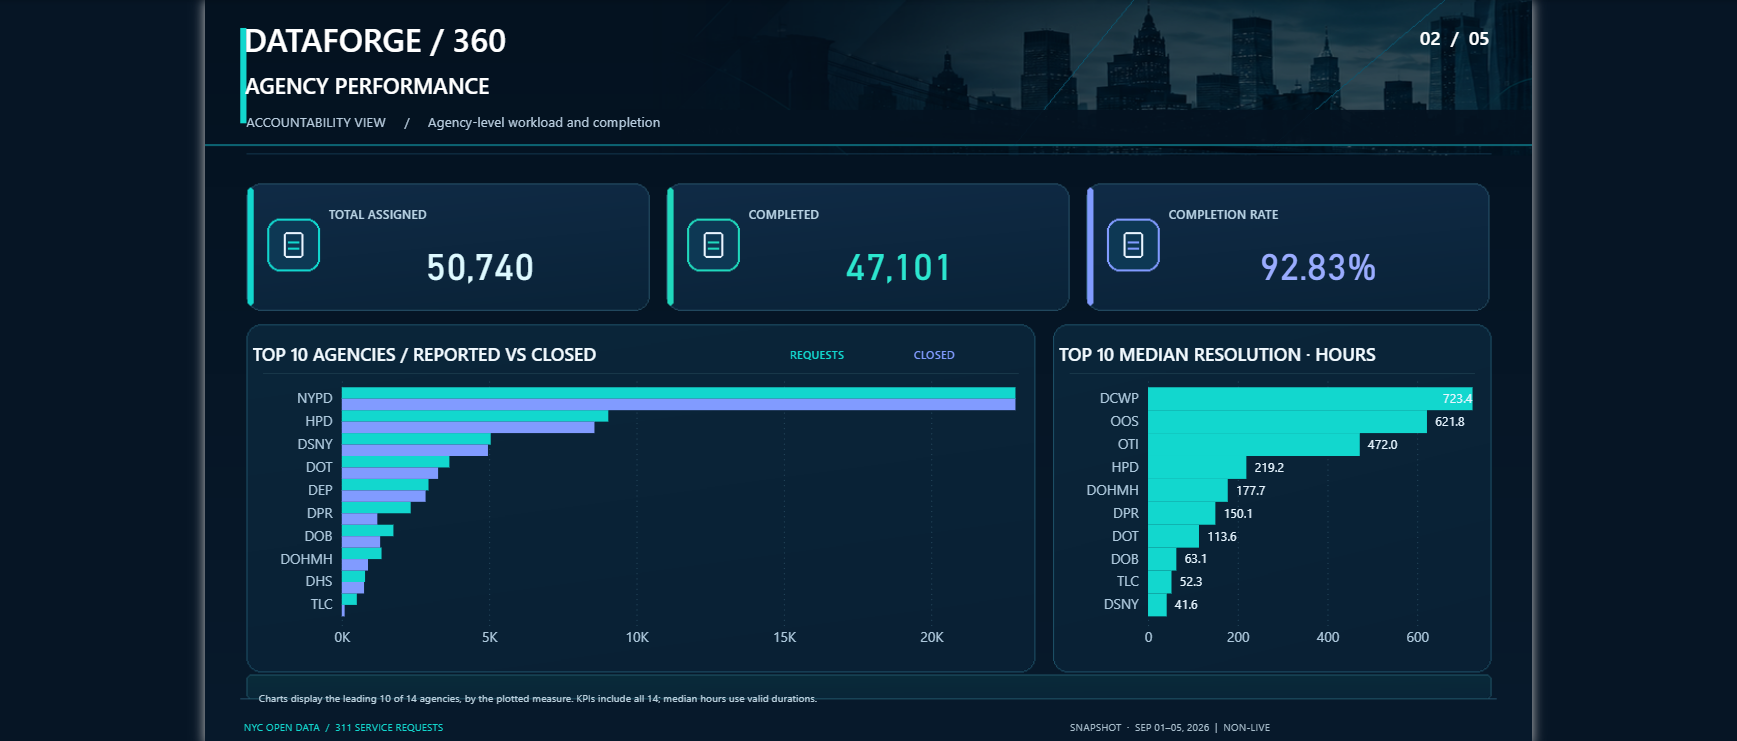

This screenshot's page, from the dashboard's own definition file:
{"tool":"powerbi","page":{"name":"Agency Performance","canvas":[1280,720],"ordinal":1},"visuals":[{"type":"textbox","box":[37,17,700,45],"z":5},{"type":"textbox","box":[39,69,960,32],"z":6},{"type":"textbox","box":[40,108,1040,25],"z":7},{"type":"textbox","box":[1160,24,91,29],"z":8},{"type":"textbox","box":[37,691,570,23],"z":9},{"type":"textbox","box":[835,691,403,23],"z":10},{"type":"textbox","box":[120,197,293,27],"z":40},{"type":"textbox","box":[525,197,293,27],"z":41},{"type":"textbox","box":[930,197,293,27],"z":42},{"type":"card","fields":{"Values":["agency.Agency Requests"]},"box":[117,218,296,73],"z":50},{"type":"card","fields":{"Values":["agency.Agency Closed"]},"box":[522,218,296,73],"z":51},{"type":"card","fields":{"Values":["agency.Agency Closure Rate"]},"box":[927,218,296,73],"z":52},{"type":"clusteredBarChart","title":"TOP 10 AGENCIES  /  REPORTED VS CLOSED","fields":{"Category":["agency.label"],"Y":["agency.Agency Requests","agency.Agency Closed"]},"box":[40,323,760,326],"z":92},{"type":"barChart","title":"TOP 10 MEDIAN RESOLUTION · HOURS","fields":{"Category":["agency.label"],"Y":["agency.Agency Median Hours"]},"box":[818,323,422,326],"z":93},{"type":"textbox","box":[565,332,100,28],"z":131},{"type":"textbox","box":[684,332,100,28],"z":133},{"type":"textbox","box":[52,663,1150,20],"z":160}]}

Visuals, with their boxes on the page's 1280x720 design canvas (x1, y1, x2, y2). These are canvas units, not pixel positions in the 1737x741 screenshot, which may show the page scaled, cropped or inside an application window:
textbox: crop(37, 17, 737, 62)
textbox: crop(39, 69, 999, 101)
textbox: crop(40, 108, 1080, 133)
textbox: crop(1160, 24, 1251, 53)
textbox: crop(37, 691, 607, 714)
textbox: crop(835, 691, 1238, 714)
textbox: crop(120, 197, 413, 224)
textbox: crop(525, 197, 818, 224)
textbox: crop(930, 197, 1223, 224)
card - agency.Agency Requests: crop(117, 218, 413, 291)
card - agency.Agency Closed: crop(522, 218, 818, 291)
card - agency.Agency Closure Rate: crop(927, 218, 1223, 291)
"TOP 10 AGENCIES  /  REPORTED VS CLOSED" clusteredBarChart: crop(40, 323, 800, 649)
"TOP 10 MEDIAN RESOLUTION · HOURS" barChart: crop(818, 323, 1240, 649)
textbox: crop(565, 332, 665, 360)
textbox: crop(684, 332, 784, 360)
textbox: crop(52, 663, 1202, 683)
